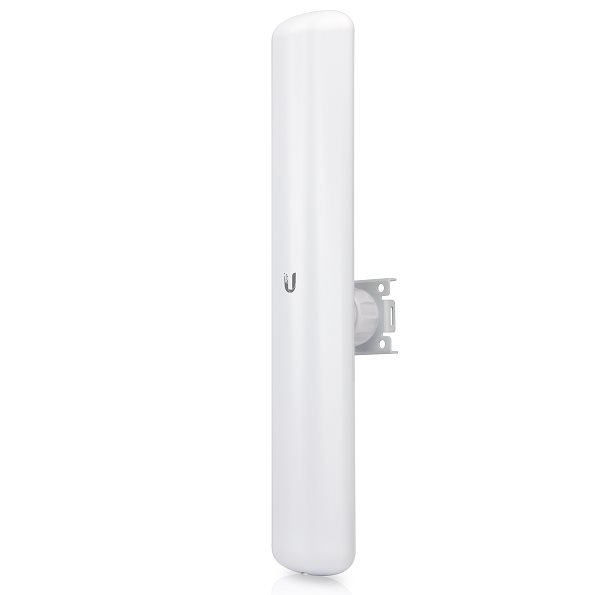sa: (254, 12, 408, 583)
